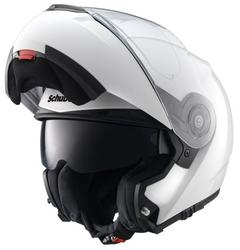with_helmet: (2, 2, 238, 245)
